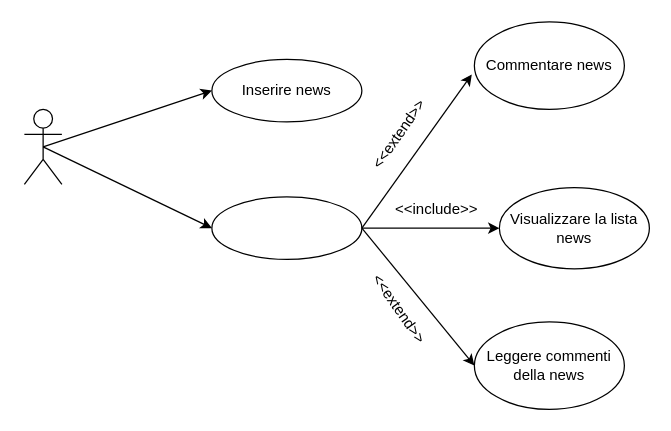
Image size: 671x431. Some labels were removed from this diagram. Each missing label, with the box of its shape:
Scegliere news: (211, 196, 362, 259)
Utente: (23, 108, 62, 184)
